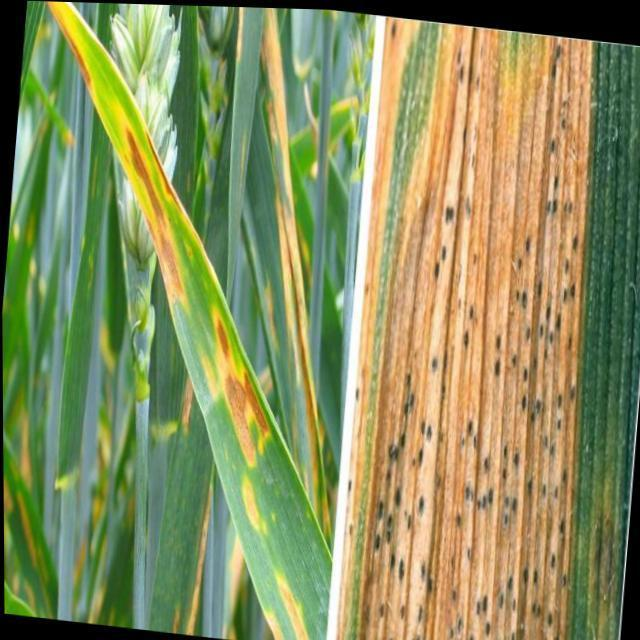Septoria: (44, 0, 332, 639), (324, 11, 597, 639)
